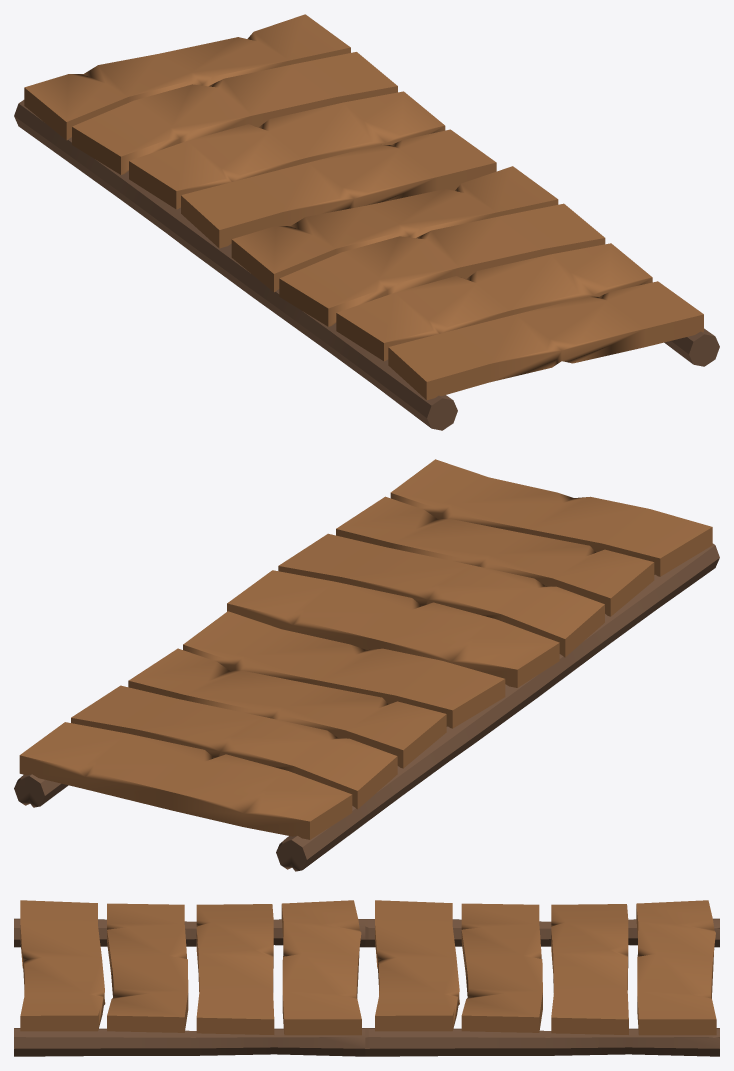
File: stationary_plat.fbx
3 renders of one model, top to bottom at view 1: azimuth 30°, elevation 25°; view 2: azimuth 150°, elevation 25°; view 3: azimuth 270°, elevation 25°, orthographic. The views are drawn at different scales.
Parts seen in each view (by area): view 1: polySurface25; view 2: polySurface25; view 3: polySurface25.
Boxes of the visible parts, x1,y1,x2,y2 form: polySurface25: (14, 14, 719, 430); polySurface25: (14, 459, 719, 871); polySurface25: (14, 900, 719, 1056).
Size of the model in its own units: 12.93 by 2.44 by 31.58.
